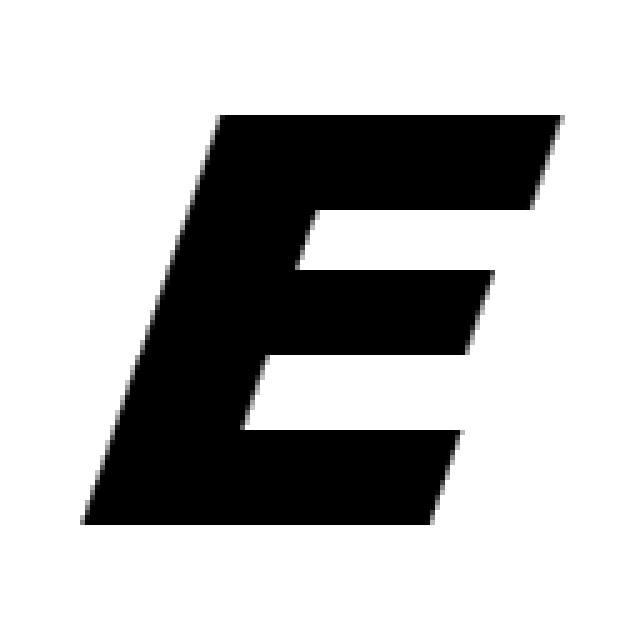E: (85, 115, 560, 525)
